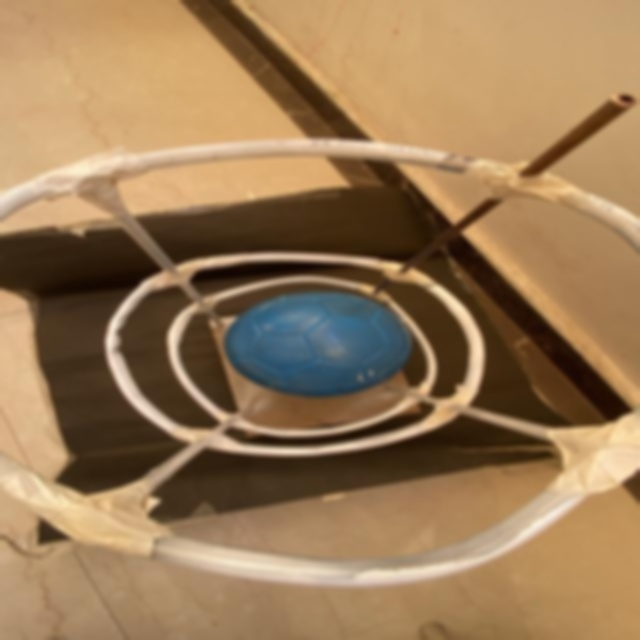blue_ball: (230, 290, 416, 398)
silo: (0, 121, 640, 584)
